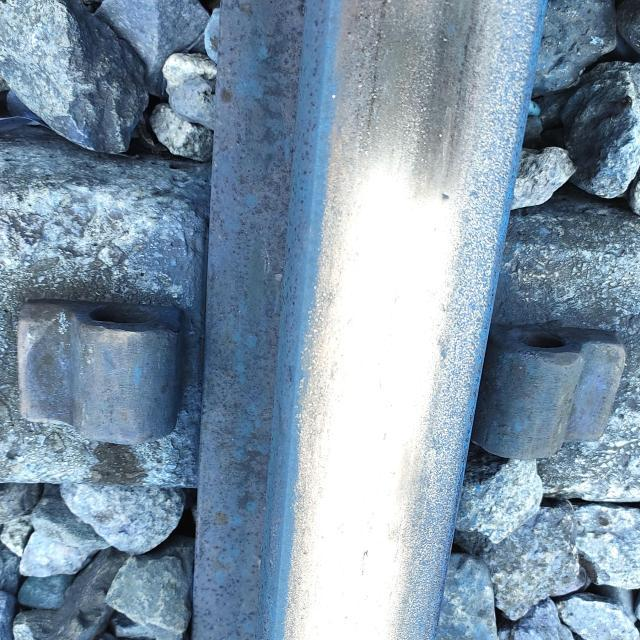Missing Fastener: (0, 251, 218, 480), (460, 316, 640, 474)
